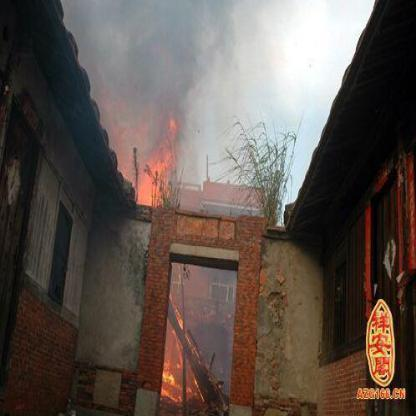fire: (160, 260, 221, 414), (127, 111, 179, 205)
smoke: (81, 0, 223, 111)
